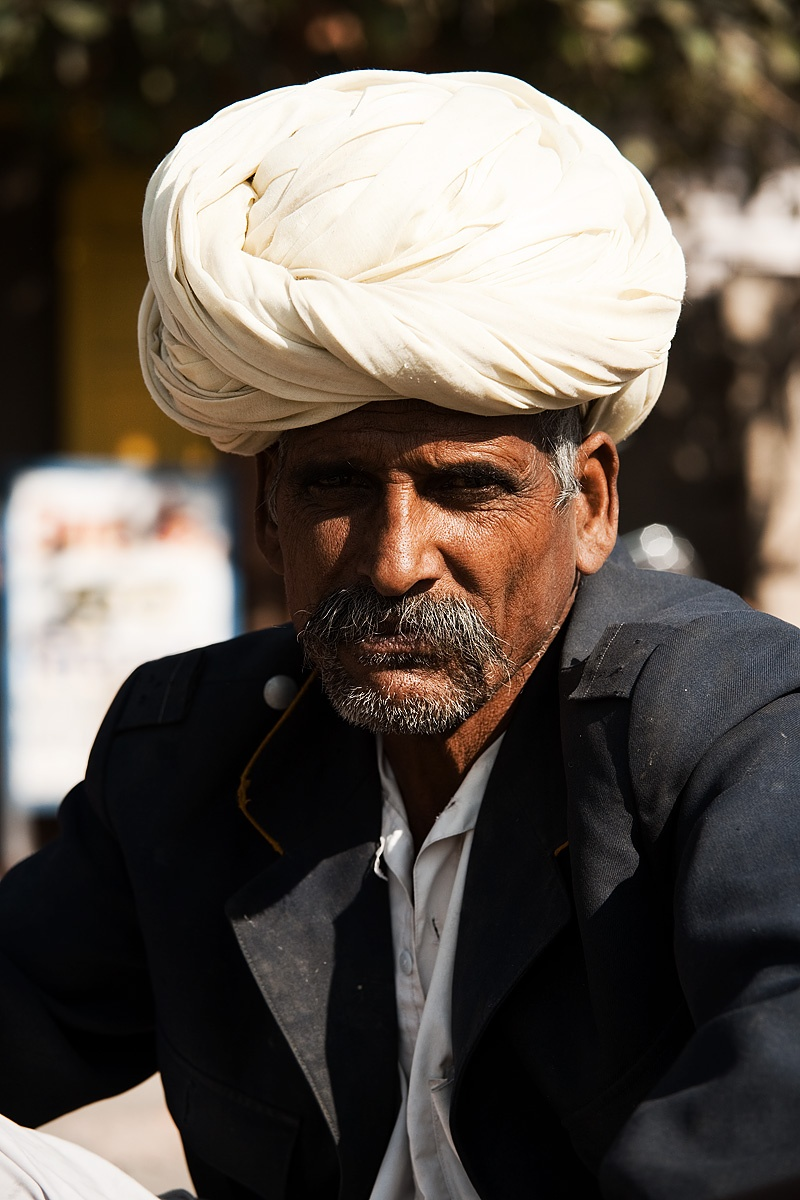without_mask: (208, 355, 610, 745)
